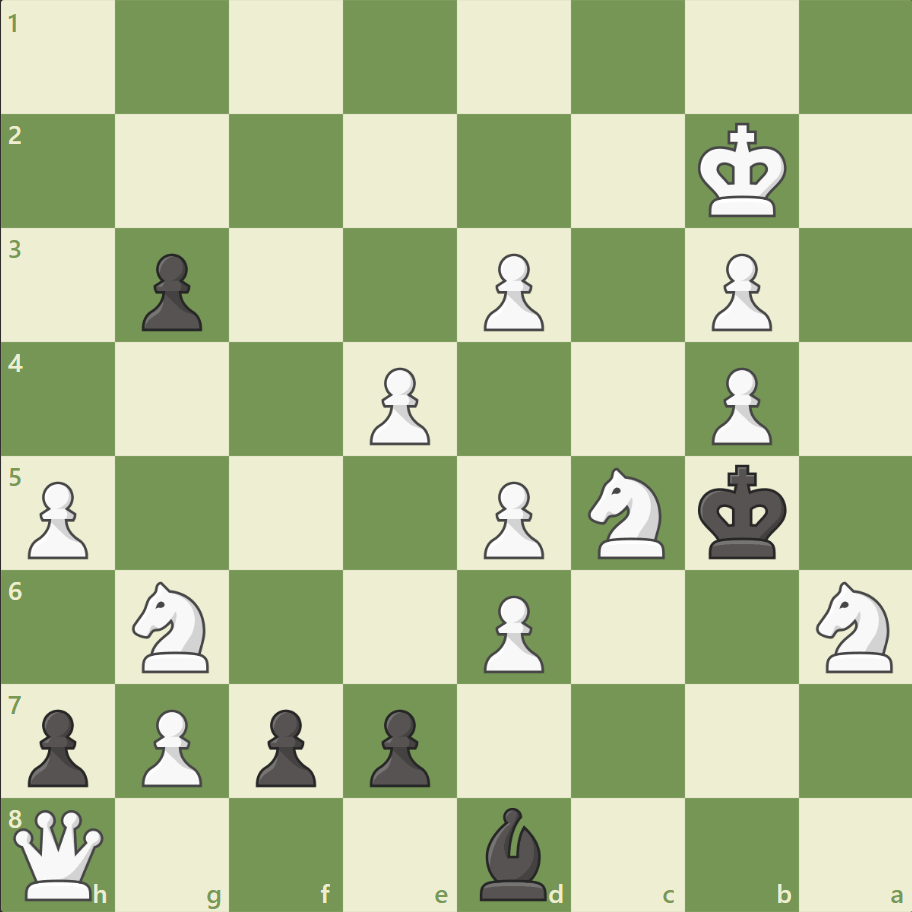K: (692, 117, 792, 225)
N: (124, 575, 222, 677), (579, 461, 676, 564), (806, 575, 903, 677)
P: (133, 700, 208, 791), (474, 586, 549, 677), (474, 473, 549, 564), (20, 473, 95, 564), (701, 359, 776, 450), (701, 246, 776, 337), (474, 246, 549, 337), (361, 359, 435, 450)
Q: (10, 804, 109, 903)
b: (471, 801, 555, 904)
k: (692, 458, 792, 566)
p: (247, 700, 322, 791), (20, 700, 95, 791), (133, 246, 208, 337), (361, 700, 435, 791)
